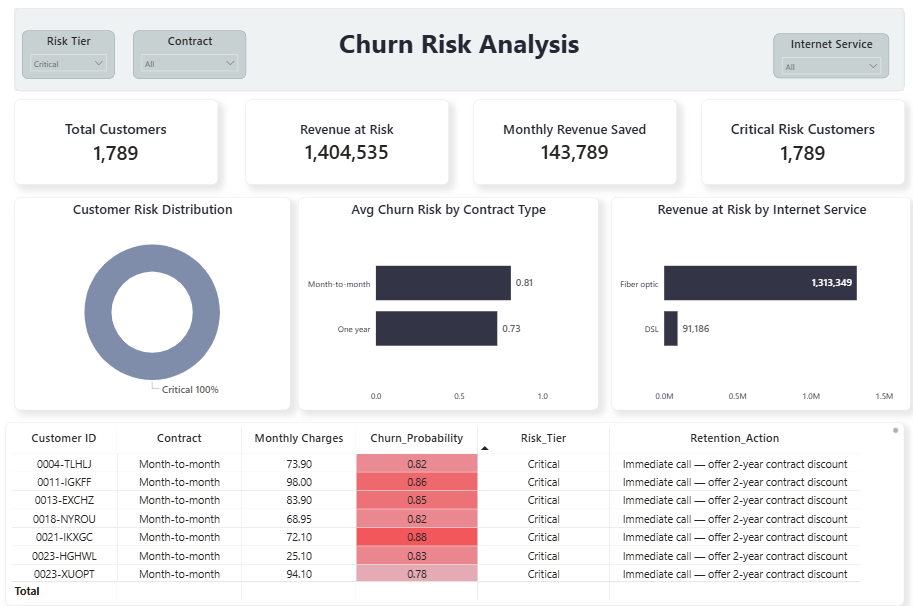

What the dashboard file says about the page in this screenshot:
{"tool":"powerbi","page":{"name":"Page 1","canvas":[1500,1000],"ordinal":0},"visuals":[{"type":"cardVisual","fields":{"Data":["Count(churn_scored.customerID)"]},"box":[30.6,164.5,330.6,138.7],"z":0},{"type":"cardVisual","fields":{"Data":["Sum(churn_scored.Revenue_At_Risk)"]},"box":[408.1,164.5,330.6,138.7],"z":1000},{"type":"cardVisual","fields":{"Data":["Count(churn_scored.customerID)"]},"box":[1148.4,164.5,330.6,138.7],"z":2000},{"type":"donutChart","title":"Customer Risk Distribution","fields":{"Category":["churn_scored.Risk_Tier"],"Y":["Count(churn_scored.customerID)"]},"box":[30.6,321,448.4,346.8],"z":3000},{"type":"barChart","title":"Avg Churn Risk by Contract Type","fields":{"Category":["churn_scored.Contract"],"Y":["Avg(churn_scored.Churn_Probability)"]},"box":[493.5,321,488.7,346.8],"z":4000},{"type":"barChart","title":"Revenue at Risk by Internet Service","fields":{"Y":["Sum(churn_scored.Revenue_At_Risk)"],"Category":["churn_scored.InternetService"]},"box":[1001.6,321,488,346.8],"z":5000},{"type":"tableEx","fields":{"Values":["churn_scored.customerID","churn_scored.Contract","churn_scored.MonthlyCharges","churn_scored.Churn_Probability","churn_scored.Risk_Tier","churn_scored.Retention_Action"]},"box":[17.7,688.7,1461.3,298.4],"z":6000},{"type":"cardVisual","fields":{"Data":["churn_scored.Monthly Revenue Saved"]},"box":[777.4,164.5,330.6,138.7],"z":7000},{"type":"textbox","box":[31.4,13.7,1447.1,135.3],"z":10000},{"type":"slicer","title":"Internet Service","fields":{"Values":["churn_scored.InternetService"]},"box":[1266.7,56.9,188.2,72.5],"z":11000},{"type":"slicer","title":"Risk Tier","fields":{"Values":["churn_scored.Risk_Tier"]},"box":[45.1,51,151,78.4],"z":11500},{"type":"slicer","title":"Contract","fields":{"Values":["churn_scored.Contract"]},"box":[223.5,51,184.3,78.4],"z":12000}]}

Visuals, with their boxes in screenshot pixels (x1, y1, x2, y2), scaled from the page's 1500x1000 canvas onto the 913x606 screenshot:
cardVisual - Count(churn_scored.customerID): crop(19, 100, 220, 184)
cardVisual - Sum(churn_scored.Revenue_At_Risk): crop(248, 100, 450, 184)
cardVisual - Count(churn_scored.customerID): crop(699, 100, 900, 184)
"Customer Risk Distribution" donutChart: crop(19, 195, 292, 405)
"Avg Churn Risk by Contract Type" barChart: crop(300, 195, 598, 405)
"Revenue at Risk by Internet Service" barChart: crop(610, 195, 907, 405)
tableEx - churn_scored.customerID x churn_scored.Contract: crop(11, 417, 900, 598)
cardVisual - churn_scored.Monthly Revenue Saved: crop(473, 100, 674, 184)
textbox: crop(19, 8, 900, 90)
"Internet Service" slicer: crop(771, 34, 886, 78)
"Risk Tier" slicer: crop(27, 31, 119, 78)
"Contract" slicer: crop(136, 31, 248, 78)
